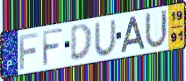A: (119, 15, 146, 54)
D: (69, 22, 94, 62)
F: (41, 27, 64, 68), (18, 31, 41, 71)
U: (144, 8, 169, 51), (93, 18, 118, 57)
